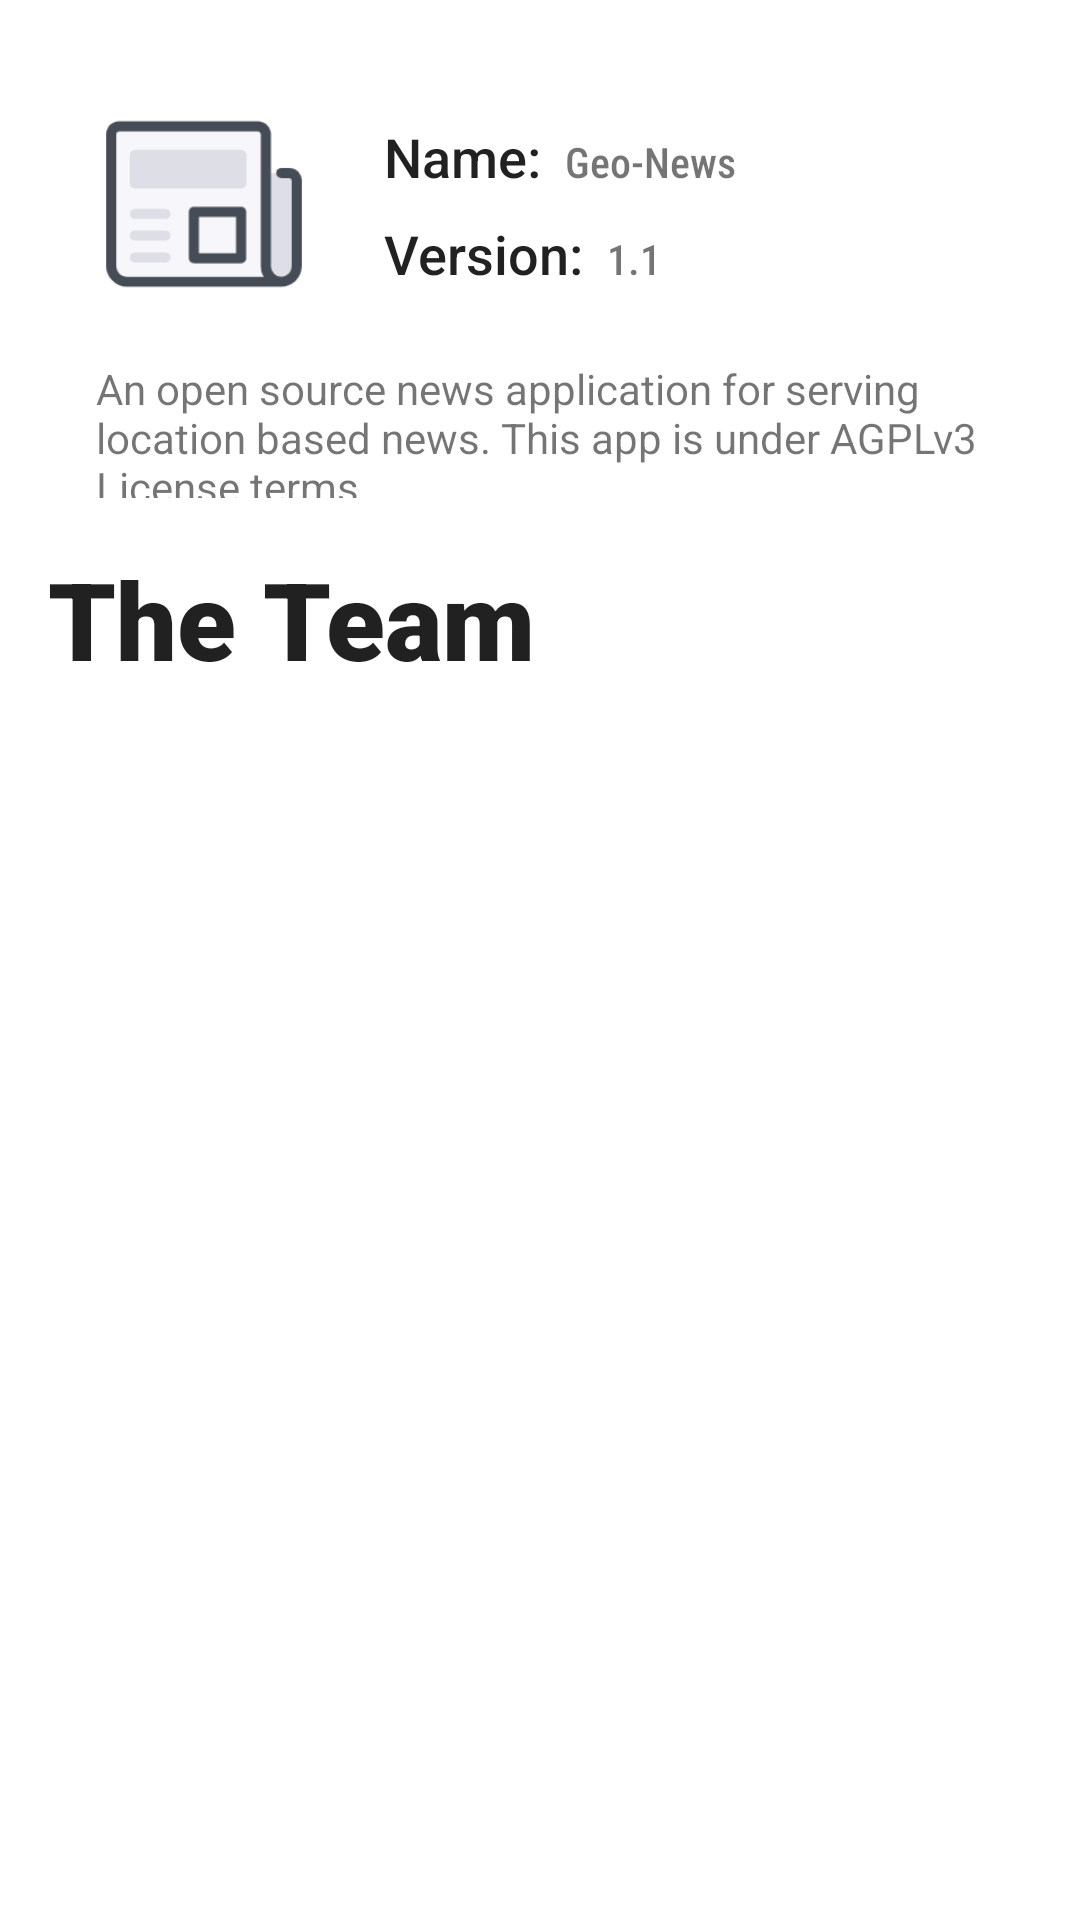

Locate icon controls on the screen. Image size 1080 × 1920, boxes as rect(x1, y1, x2, y2).
iconeight news: rect(106, 120, 302, 288)
